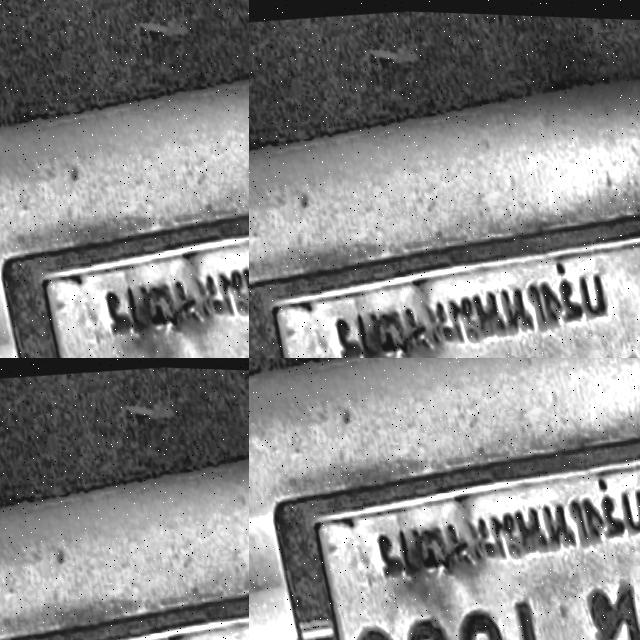license-plate: (249, 389, 640, 640)
